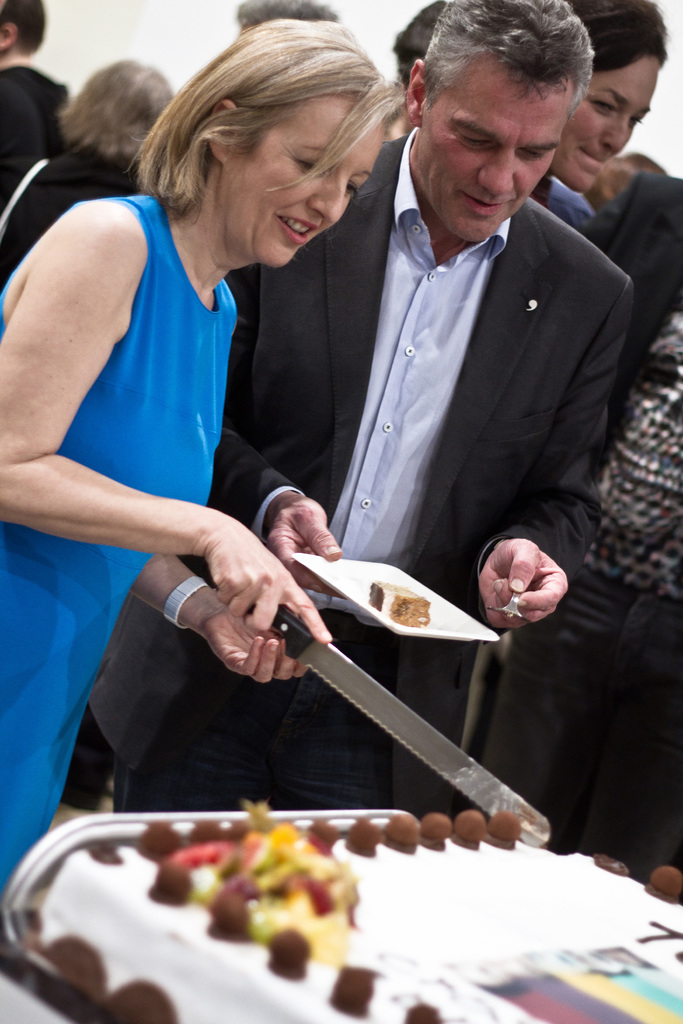cake: (15, 802, 676, 1021)
